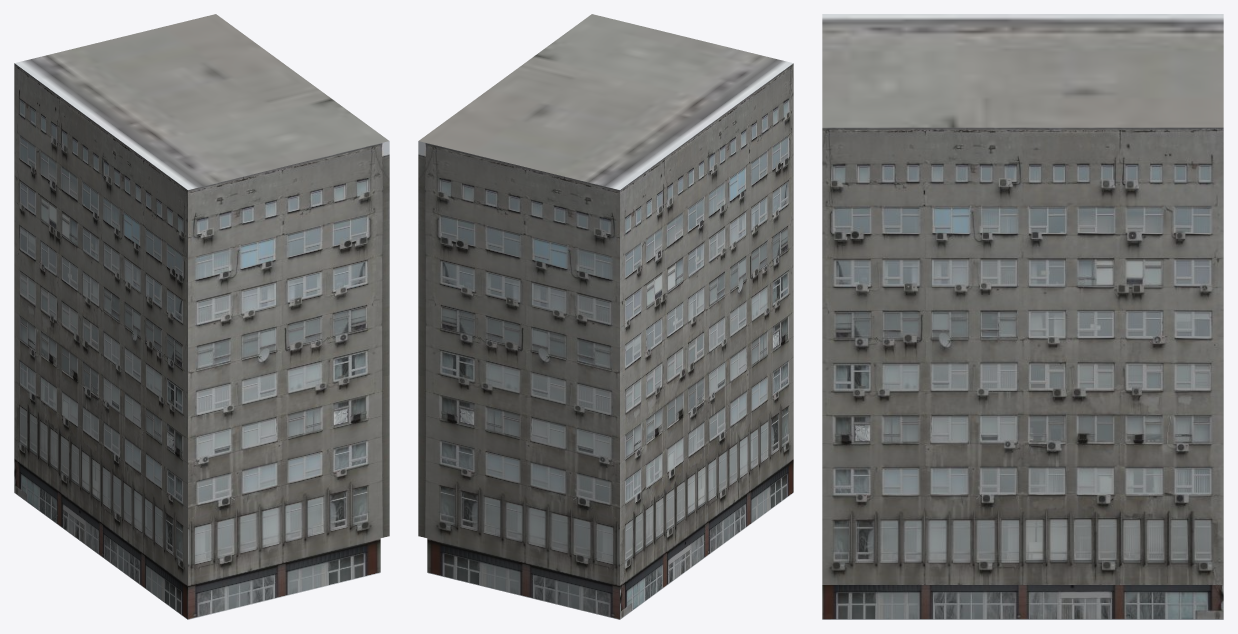
File: building.fbx
3 renders of one model, left to right at view 1: azimuth 30°, elevation 25°; view 2: azimuth 150°, elevation 25°; view 3: azimuth 270°, elevation 25°, orthographic. The views are drawn at different scales.
Parts seen in each view (by area): view 1: Material_008-material.001; view 2: Material_008-material.001; view 3: Material_008-material.001.
Part boxes in pixels (x1,y1,x2,y2): Material_008-material.001: (14, 14, 389, 619); Material_008-material.001: (418, 14, 793, 619); Material_008-material.001: (822, 14, 1223, 619).
Bounding box in the file's own units: 591 × 1203 × 881.
1 material, 1 textured.
